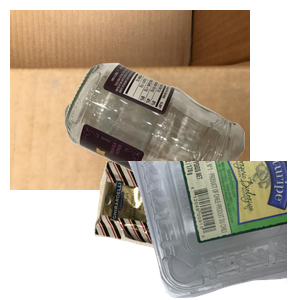cardboard: (10, 10, 250, 190)
glass: (62, 60, 300, 240)
plastic: (60, 161, 300, 300)
trash: (92, 158, 277, 300)
